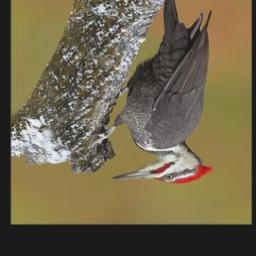Woodpecker: (89, 0, 214, 184)
